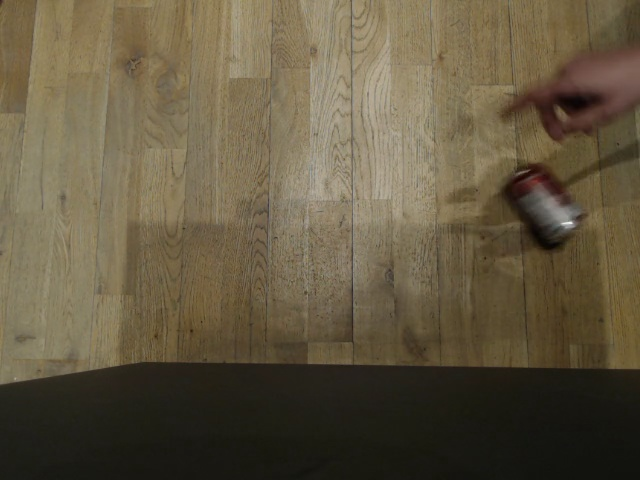coke: (510, 163, 583, 243)
